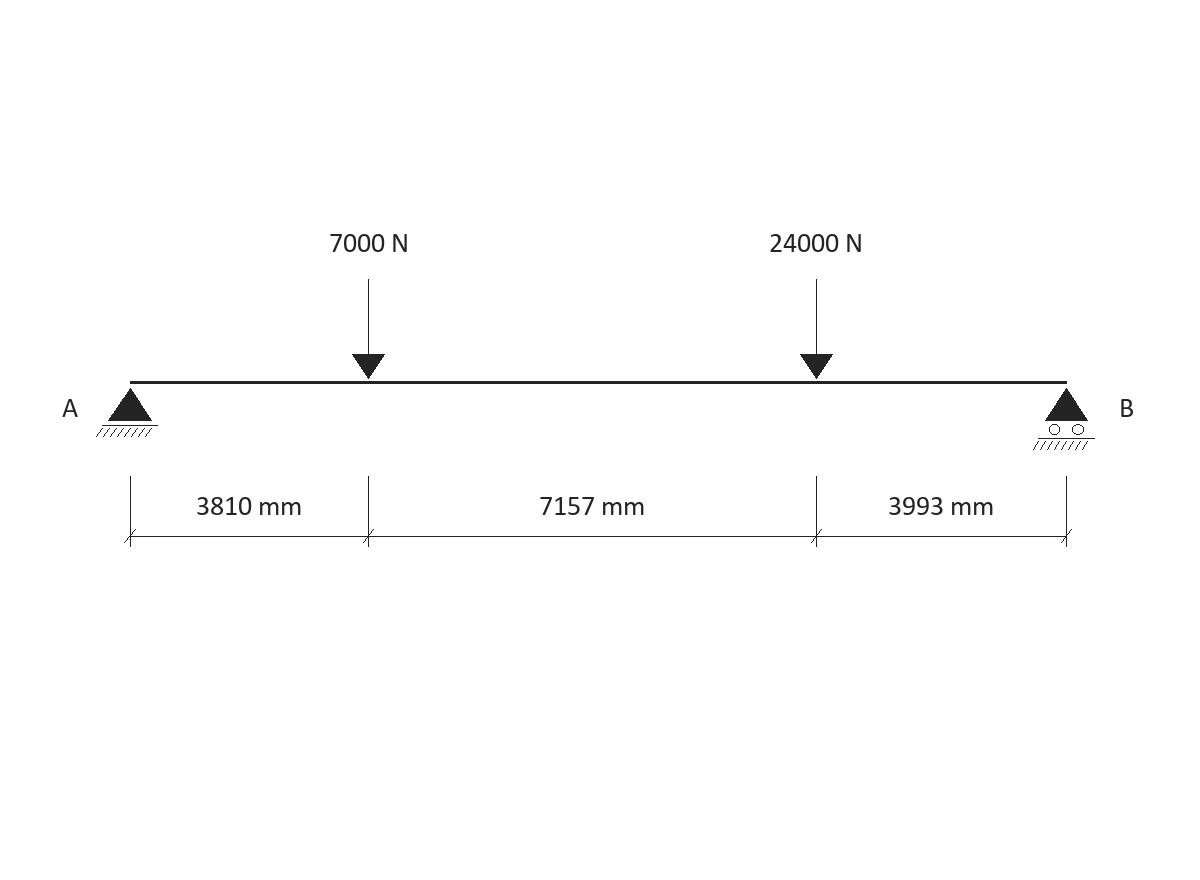pin_support: (96, 388, 158, 437)
point_load: (352, 279, 385, 379), (800, 279, 833, 379)
roller_support: (1033, 388, 1095, 450)
